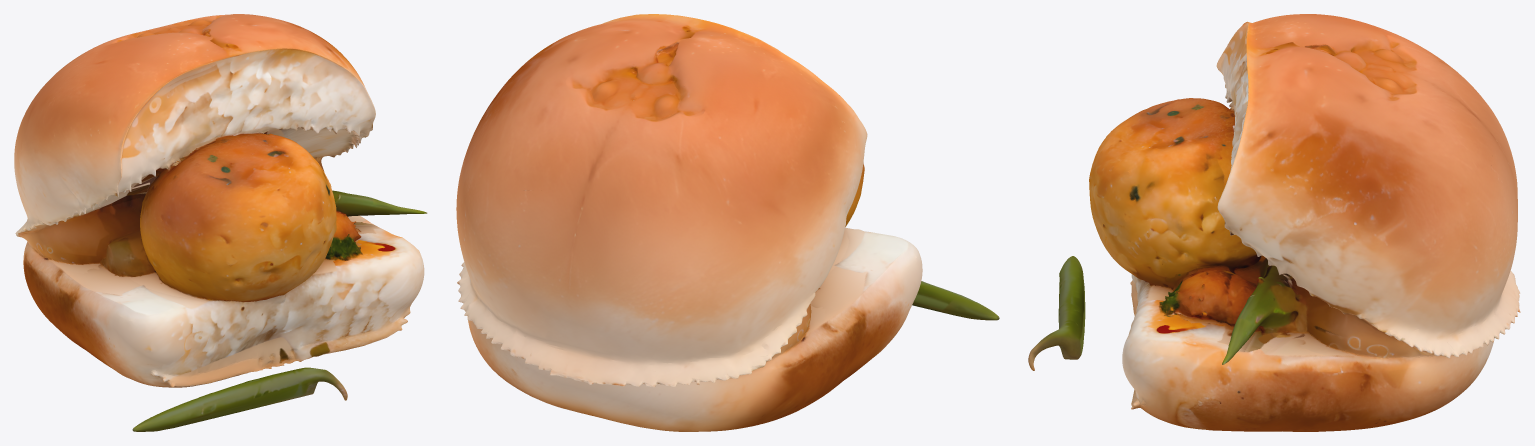
The model's file is vadapav.glb.
The picture shows the model from 3 angles, left to right: view 1: azimuth 30°, elevation 25°; view 2: azimuth 150°, elevation 25°; view 3: azimuth 270°, elevation 25°; orthographic projection. The views are drawn at different scales.
Parts seen in each view (by area): view 1: model; view 2: model; view 3: model.
Boxes of the visible parts, x1,y1,x2,y2 form: model: (14, 14, 427, 431); model: (456, 14, 999, 431); model: (1028, 14, 1520, 431).
Size of the model in its own units: 1.81 by 1.35 by 1.9.
Materials: 1 (1 with a texture image).
